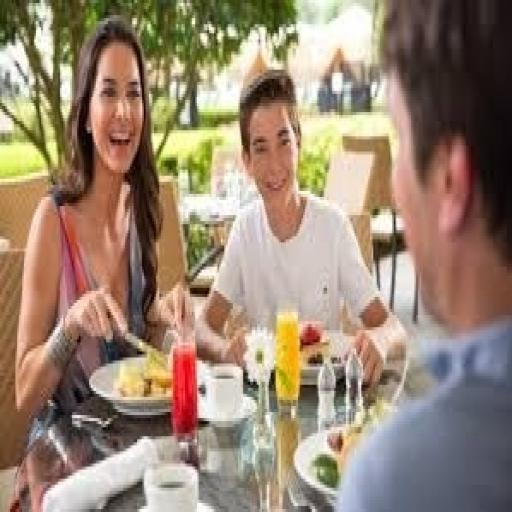eating: (334, 0, 510, 509), (14, 12, 195, 427), (194, 60, 410, 390)
